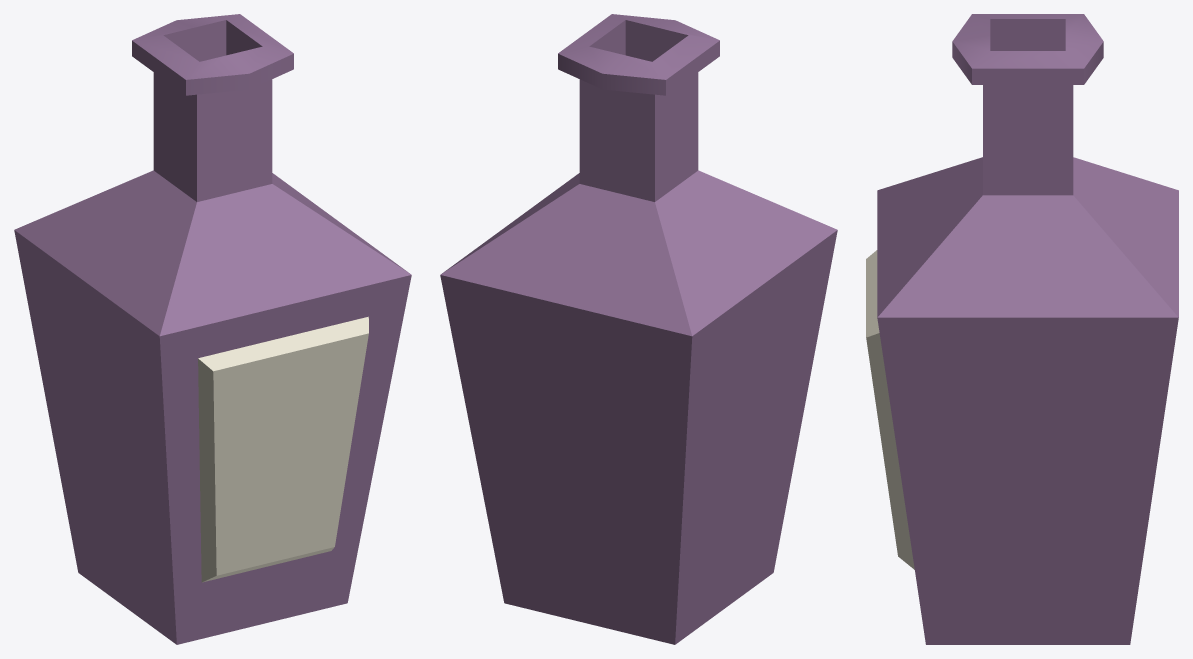
File: potionReveille.fbx
3 renders of one model, left to right at view 1: azimuth 30°, elevation 25°; view 2: azimuth 150°, elevation 25°; view 3: azimuth 270°, elevation 25°, orthographic. The views are drawn at different scales.
Parts seen in each view (by area): view 1: potionReveille; view 2: potionReveille; view 3: potionReveille.
Part boxes in pixels (bbox=[...]): potionReveille: bbox=[14, 14, 411, 644]; potionReveille: bbox=[440, 14, 837, 644]; potionReveille: bbox=[866, 14, 1178, 644].
Size of the model in its own units: 42.88 by 88.93 by 44.47.
